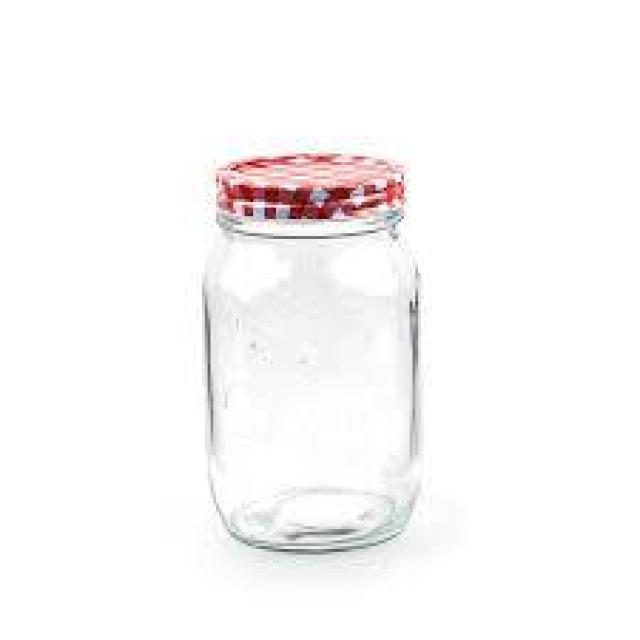Glass: (198, 152, 426, 553)
